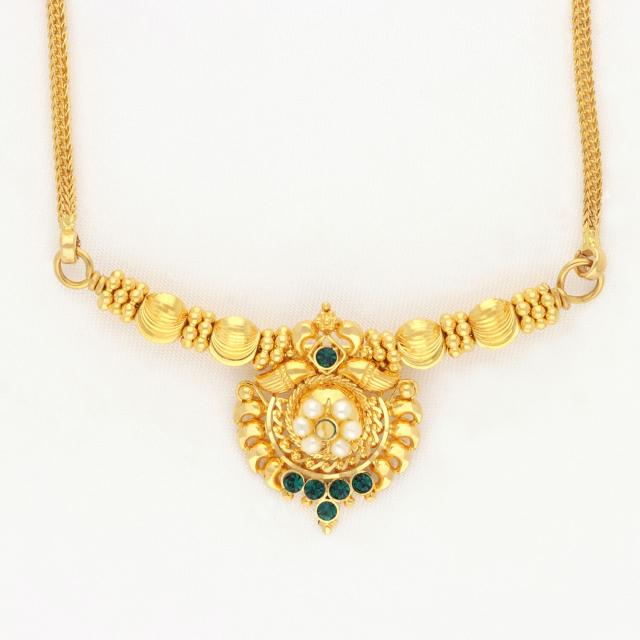missing gem: (316, 420, 334, 439)
